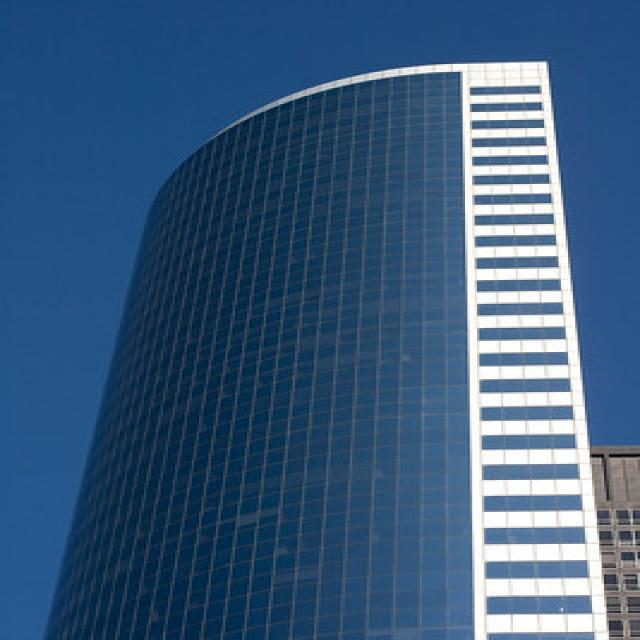Normal_building: (30, 54, 615, 640)
